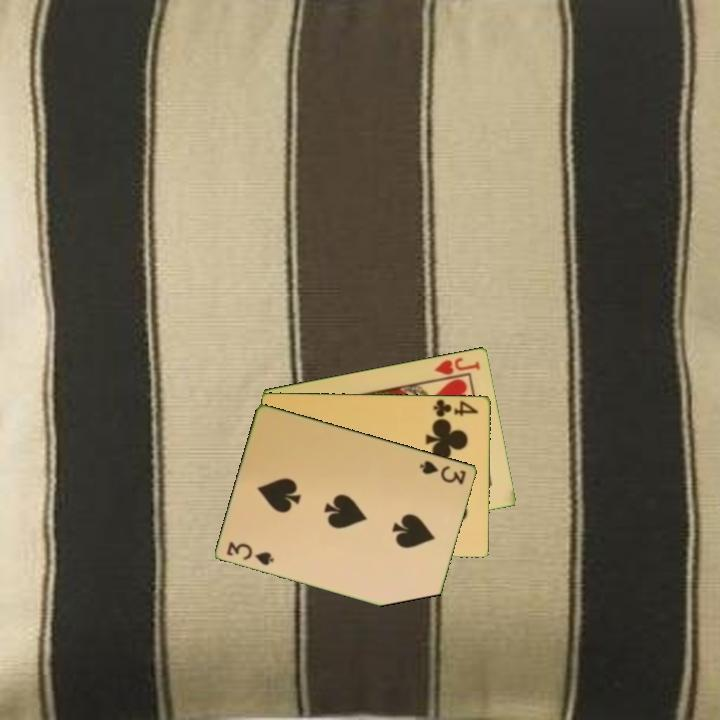3s: (223, 538, 277, 568), (416, 457, 469, 487)
4c: (430, 396, 481, 420)
Jh: (431, 353, 483, 378)
